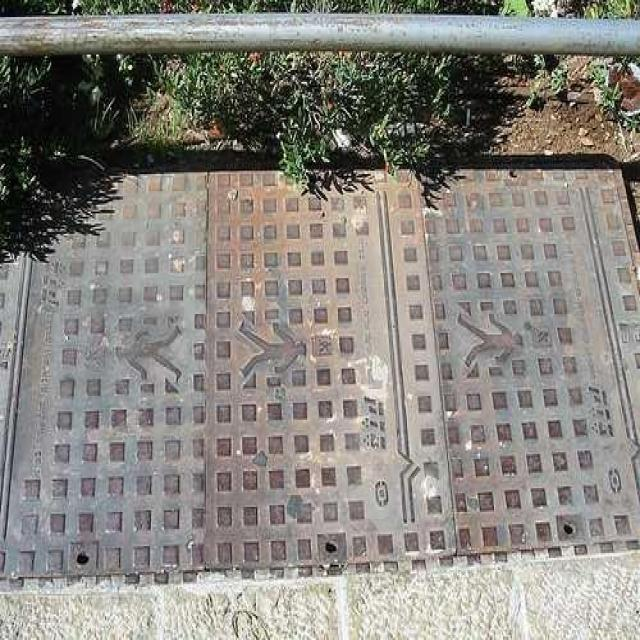manhole: (0, 160, 640, 585)
